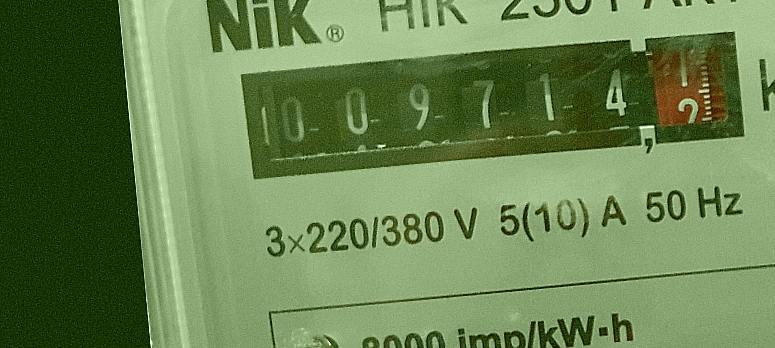0: (275, 91, 309, 147), (339, 82, 370, 137)
1: (533, 67, 560, 124), (672, 46, 691, 89)
2: (674, 93, 700, 125)
4: (597, 64, 631, 121)
7: (469, 75, 499, 131)
9: (401, 78, 434, 133)
screen: (223, 10, 762, 202)
